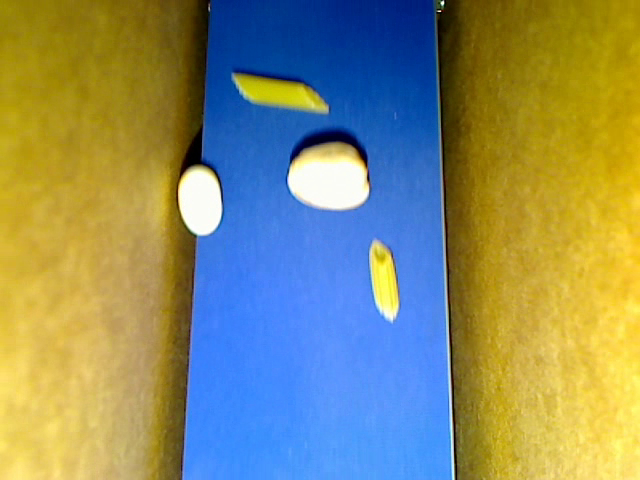penne: (232, 71, 329, 113), (369, 237, 401, 325)
